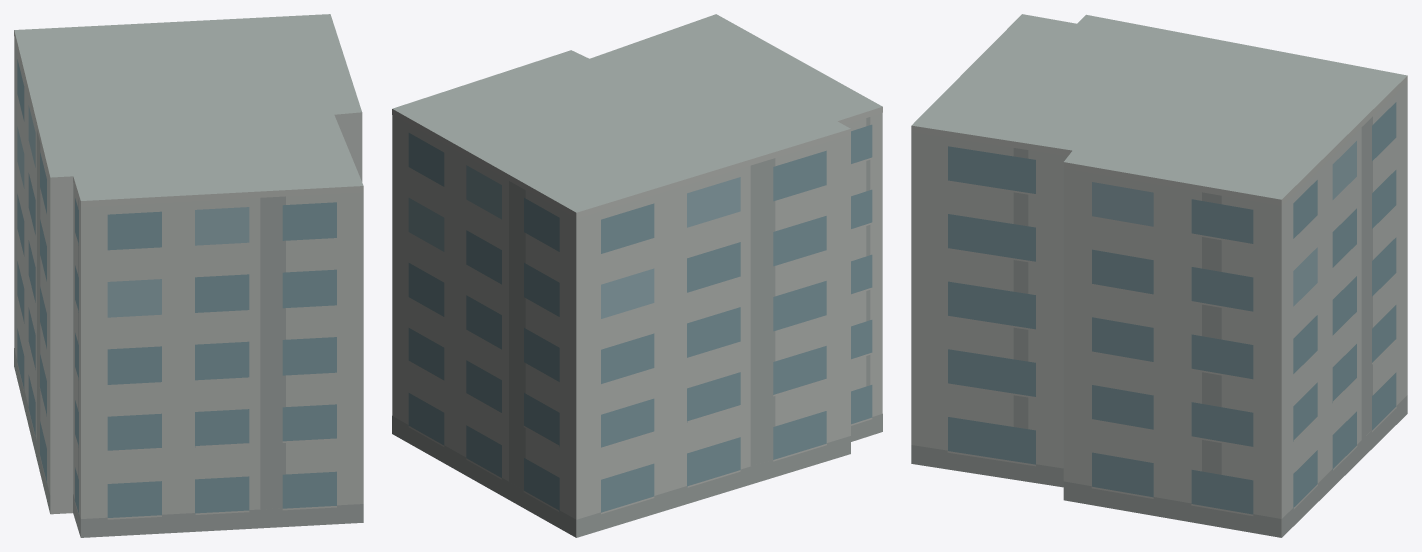
File: survey-upis-32531963.glb
3 views of the same model, side by side, from view 1: azimuth 30°, elevation 25°; view 2: azimuth 150°, elevation 25°; view 3: azimuth 270°, elevation 25° (orthographic). The views are drawn at different scales.
Visible parts, largest first — view 1: survey-upis-32531963.tmp; view 2: survey-upis-32531963.tmp; view 3: survey-upis-32531963.tmp.
Boxes of the visible parts, x1,y1,x2,y2 form: survey-upis-32531963.tmp: (14,14,363,537); survey-upis-32531963.tmp: (392,14,882,537); survey-upis-32531963.tmp: (911,14,1407,537).
Size of the model in its own units: 15.2 by 12.9 by 17.17.
